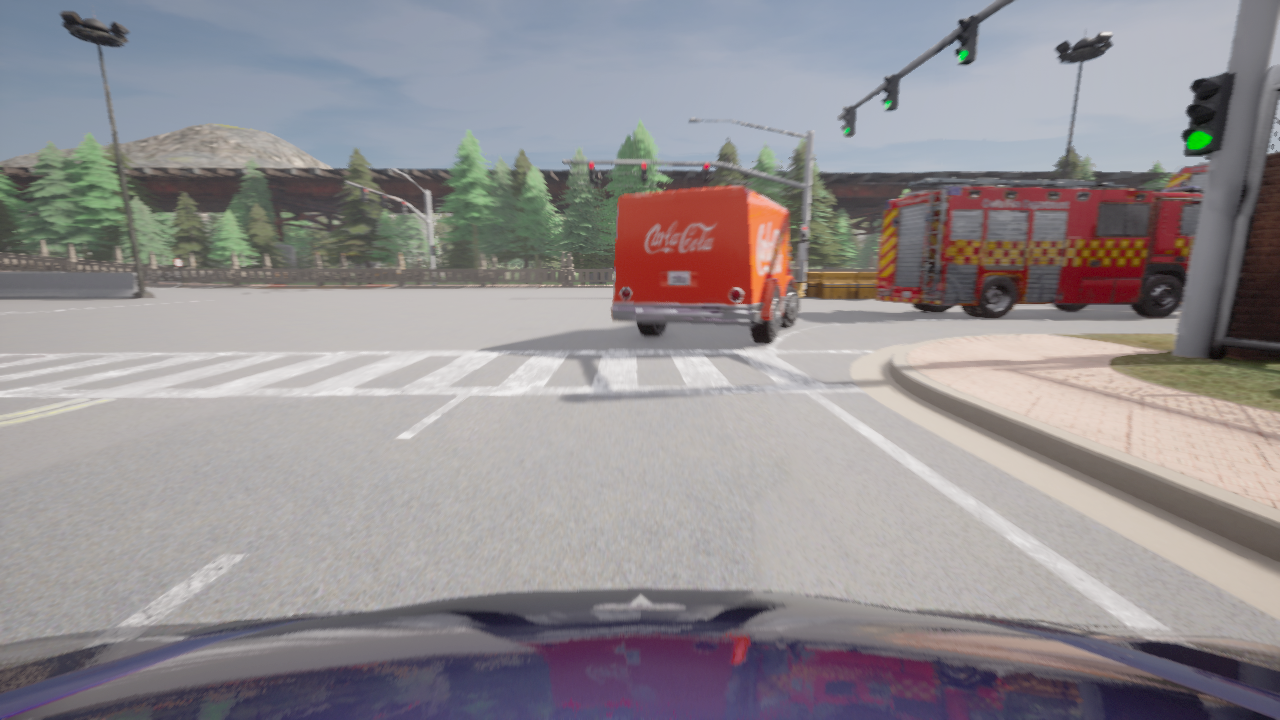cyclist: (0, 588, 1279, 719), (876, 177, 1203, 318), (612, 185, 808, 344), (1165, 154, 1210, 190)
pedestrian: (355, 264, 360, 285)
